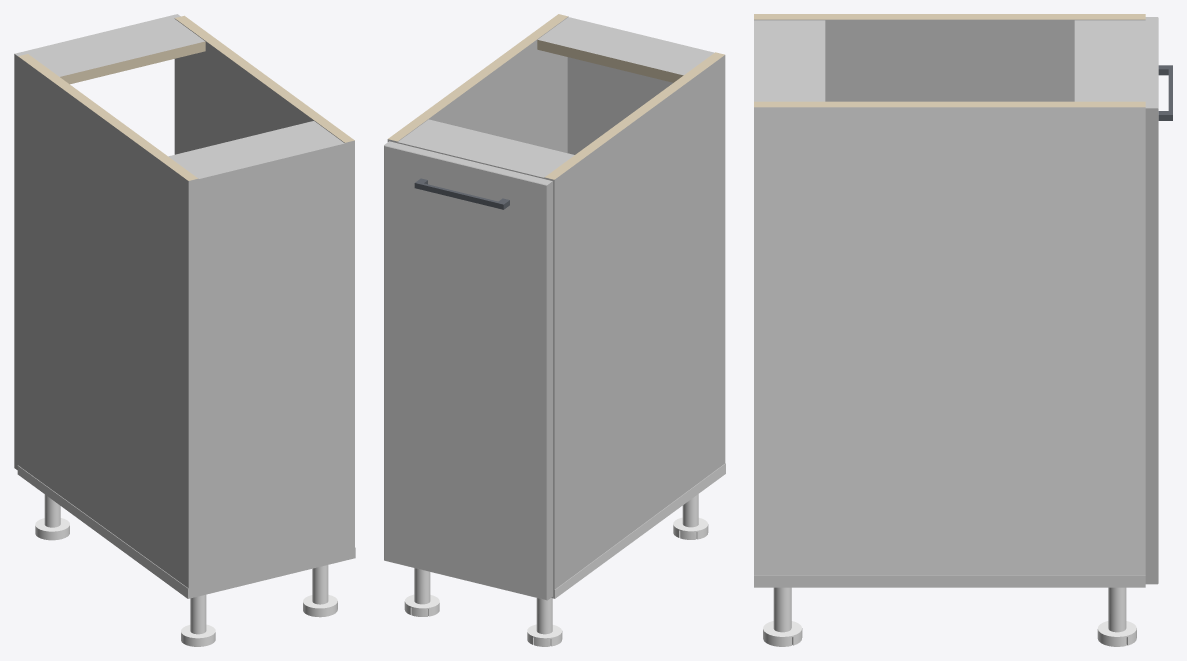
3 views of the same model, side by side, from view 1: azimuth 30°, elevation 25°; view 2: azimuth 150°, elevation 25°; view 3: azimuth 270°, elevation 25° (orthographic). The views are drawn at different scales.
Visible parts, largest first — view 1: Model; view 2: Model; view 3: Model.
Part boxes in pixels (bbox=[...]): Model: bbox=[14, 14, 355, 646]; Model: bbox=[384, 14, 725, 646]; Model: bbox=[754, 14, 1172, 646].
Bounding box in the file's own units: 302 × 815 × 569.
